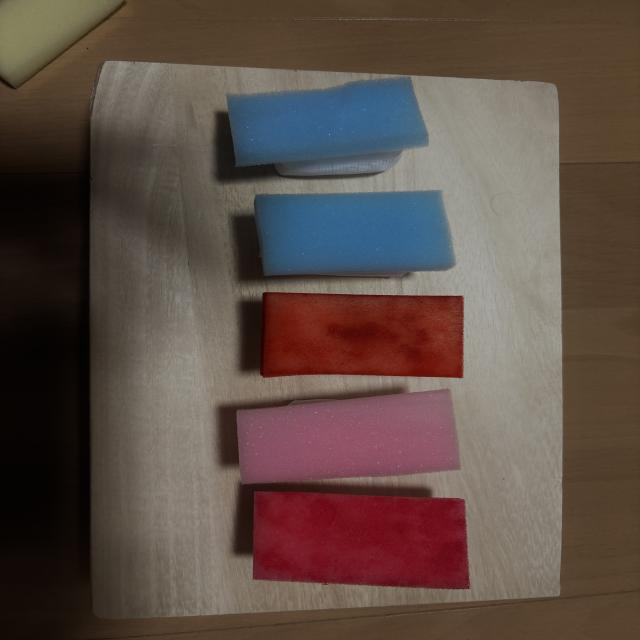NG: (227, 77, 428, 176)
ika: (254, 191, 455, 275)
maguro: (253, 492, 469, 589)
salmon: (261, 293, 463, 377)
tai: (237, 389, 460, 483)
